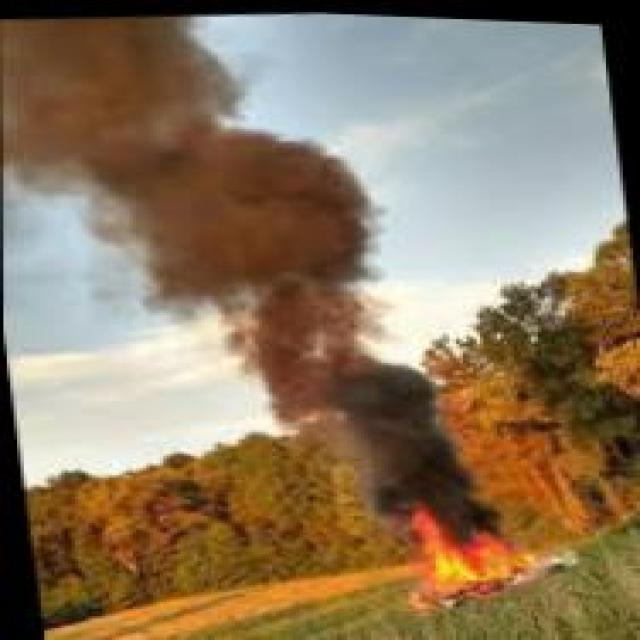Fire: (382, 472, 552, 604)
Smoke: (0, 0, 500, 530)
